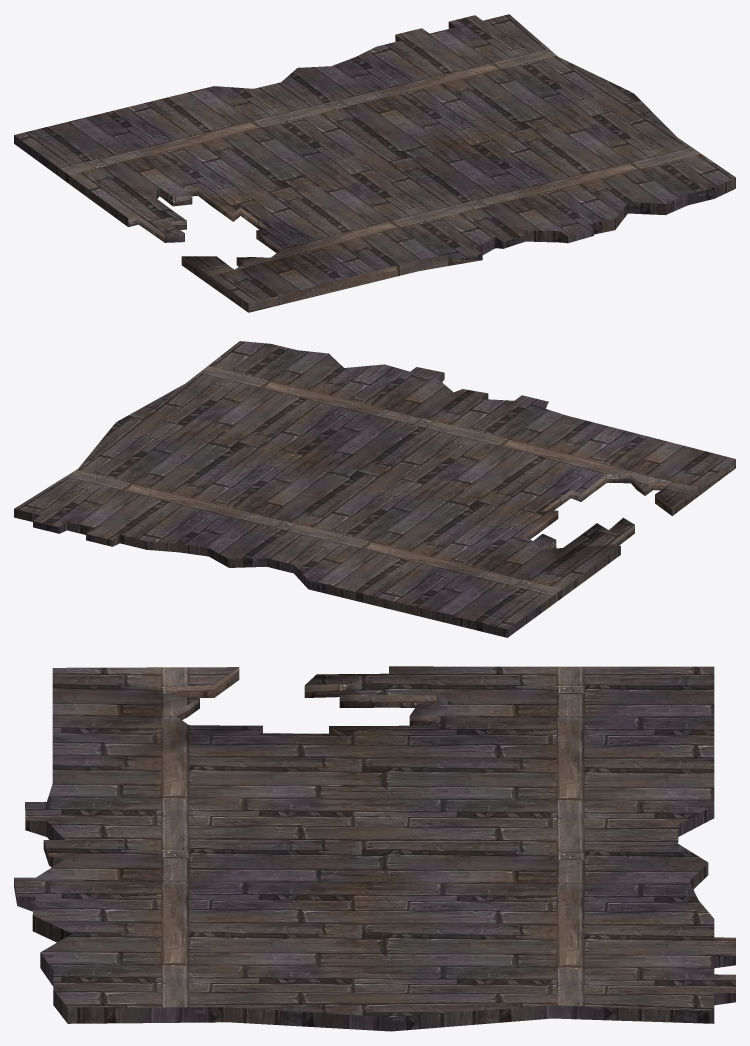
File: Battle05_Road_01.FBX
3 renders of one model, top to bottom at view 1: azimuth 30°, elevation 25°; view 2: azimuth 150°, elevation 25°; view 3: azimuth 270°, elevation 25°, orthographic. The views are drawn at different scales.
Visible parts, largest first — view 1: Battle05_Road_01; view 2: Battle05_Road_01; view 3: Battle05_Road_01.
Boxes of the visible parts, <box> form: Battle05_Road_01: <box>14,14,735,312</box>; Battle05_Road_01: <box>14,341,735,637</box>; Battle05_Road_01: <box>14,666,735,1031</box>.
Bounding box in the file's own units: 38.35 × 0.8264 × 33.19.
